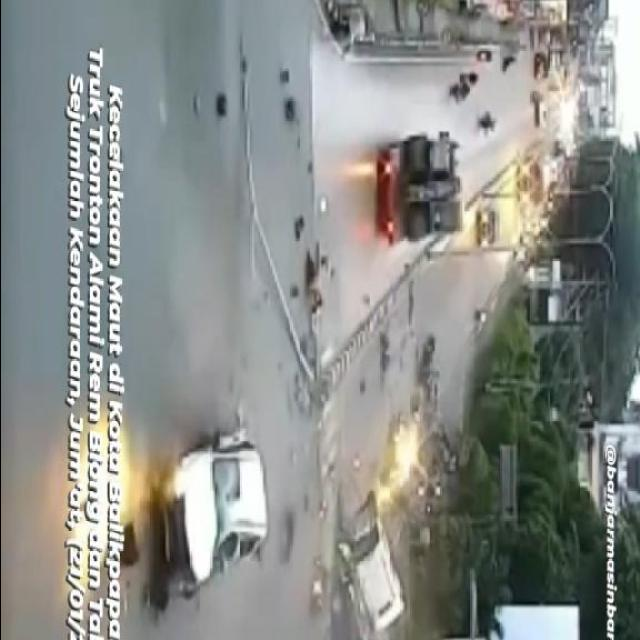accident: (156, 431, 275, 625), (312, 492, 416, 640), (408, 320, 452, 452)
